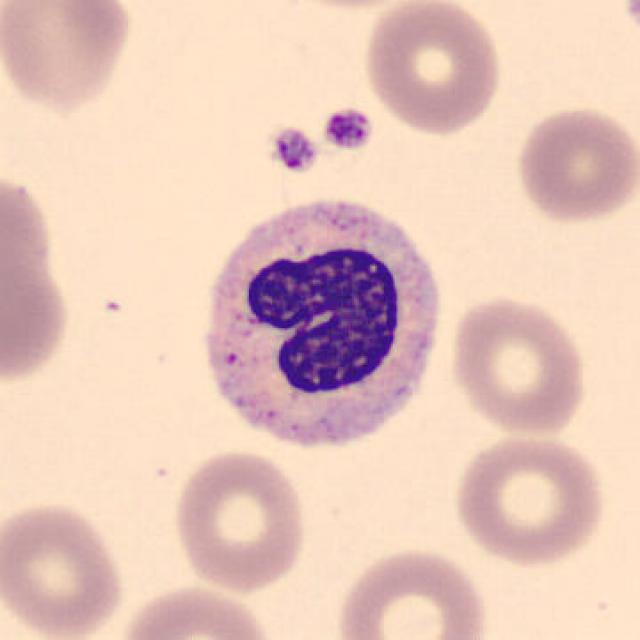Neutrophil: (187, 188, 453, 464)
Platelets: (265, 124, 322, 176), (320, 104, 375, 153), (618, 0, 640, 40)
RBC: (448, 430, 612, 570), (444, 291, 592, 439), (169, 444, 311, 594), (359, 0, 507, 138), (0, 495, 130, 640), (0, 162, 75, 395), (0, 0, 137, 118), (510, 102, 638, 228), (330, 543, 490, 640), (115, 580, 278, 640), (258, 0, 428, 14), (617, 0, 640, 44)
